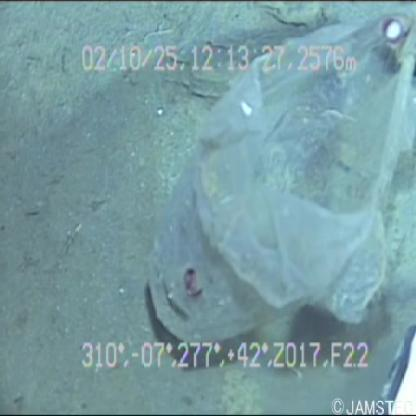Rác: (122, 2, 414, 370)
